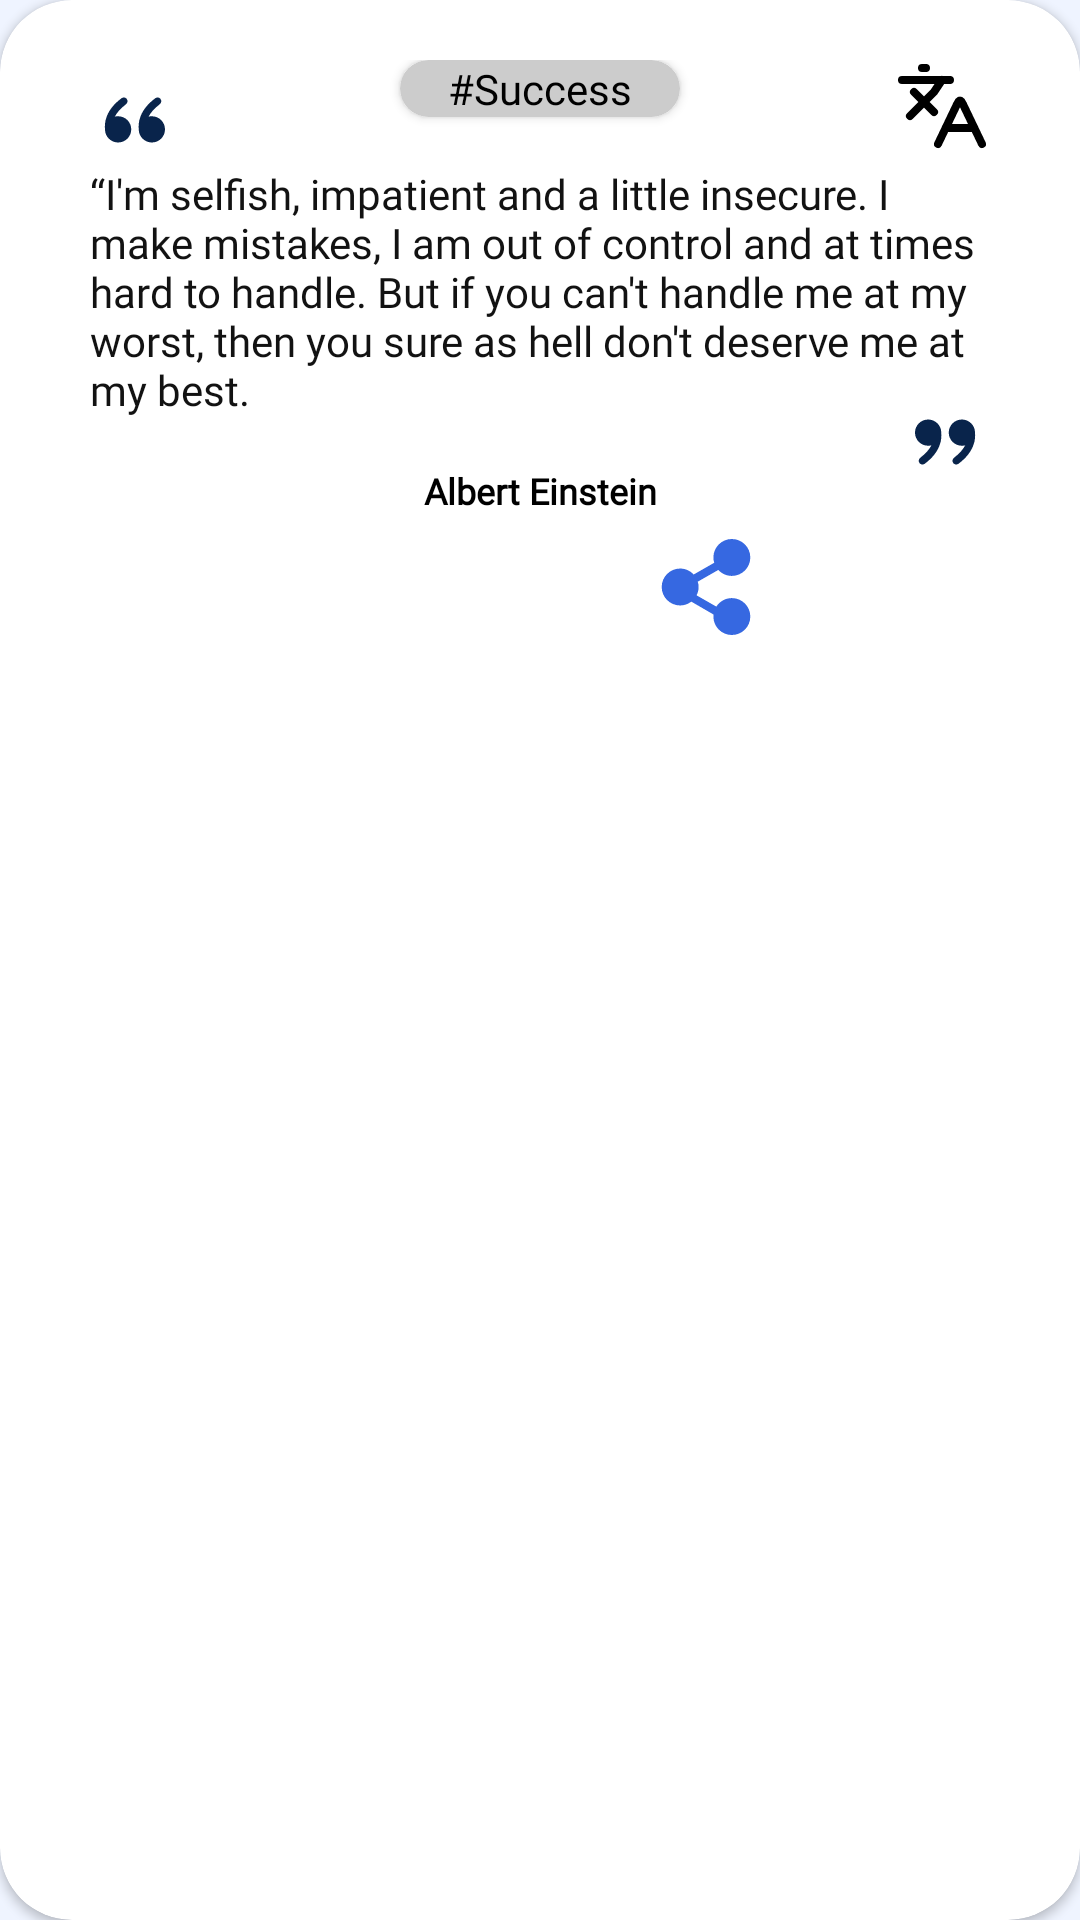

Icon bounding boxes for this 1080 x 1920 phone screenshot, format (x1, y1, x2, y2):
quote left: (104, 97, 165, 143)
quote right: (915, 419, 976, 465)
share: (661, 539, 751, 635)
translate: (898, 64, 986, 148)
